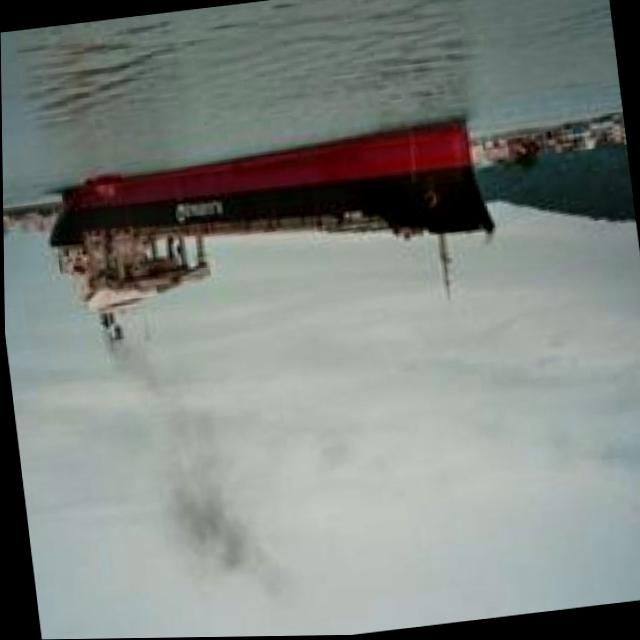ship2: (47, 119, 495, 354)
